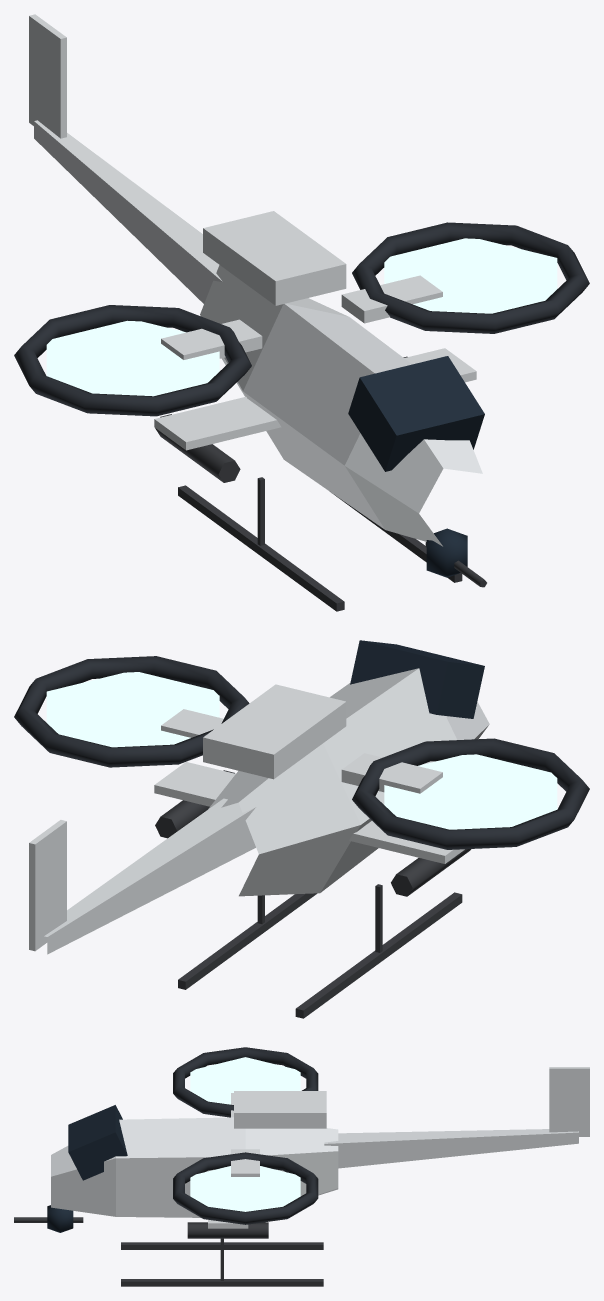
Rendered from veh_air_heli_attack_a09_lod1.glb.
The picture shows the model from 3 angles, top to bottom: view 1: azimuth 30°, elevation 25°; view 2: azimuth 150°, elevation 25°; view 3: azimuth 270°, elevation 25°; orthographic projection. The views are drawn at different scales.
Parts seen in each view (by area): view 1: body, rotor_r, rotor_l; view 2: body, rotor_r, rotor_l; view 3: body, rotor_l, rotor_r.
Boxes of the visible parts, x1,y1,x2,y2 form: body: (29, 14, 484, 611); rotor_r: (14, 305, 251, 416); rotor_l: (352, 222, 589, 333); body: (29, 640, 489, 1018); rotor_r: (352, 738, 589, 849); rotor_l: (14, 656, 249, 767); body: (47, 1067, 589, 1286); rotor_l: (173, 1152, 318, 1224); rotor_r: (173, 1047, 318, 1117).
Size of the model in its own units: 6.94 by 3.8 by 9.95.
